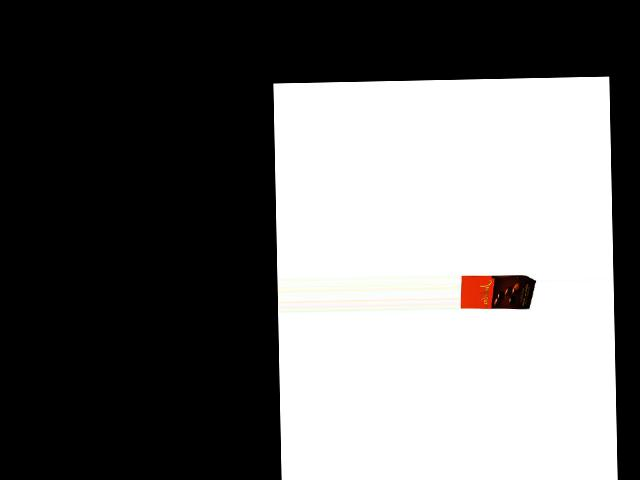chocolate: (460, 272, 535, 314)
